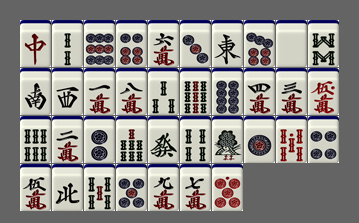0m: (308, 68, 339, 115)
0p: (212, 164, 243, 211)
0s: (276, 116, 307, 163)
1m: (84, 68, 115, 115)
1p: (244, 116, 275, 163)
1s: (212, 116, 243, 163)
1z: (212, 20, 243, 67)
2m: (52, 116, 83, 163)
2p: (84, 116, 115, 163)
2s: (52, 20, 83, 67)
2z: (20, 68, 51, 115)
3m: (276, 68, 307, 115)
3p: (180, 20, 211, 67)
3s: (148, 68, 179, 115)
3z: (52, 68, 83, 115)
4m: (244, 68, 275, 115)
4p: (308, 116, 339, 163)
4s: (180, 116, 211, 163)
4z: (52, 164, 83, 211)
5m: (20, 164, 51, 211)
5p: (116, 164, 147, 211)
5s: (84, 164, 115, 211)
5z: (276, 20, 307, 67)
6m: (148, 20, 179, 67)
6p: (116, 20, 147, 67)
6s: (20, 116, 51, 163)
6z: (148, 116, 179, 163)
7m: (180, 164, 211, 211)
7p: (244, 20, 275, 67)
7s: (116, 116, 147, 163)
7z: (20, 20, 51, 67)
8m: (116, 68, 147, 115)
8p: (212, 68, 243, 115)
8s: (308, 20, 339, 67)
9m: (148, 164, 179, 211)
9p: (84, 20, 115, 67)
9s: (180, 68, 211, 115)
